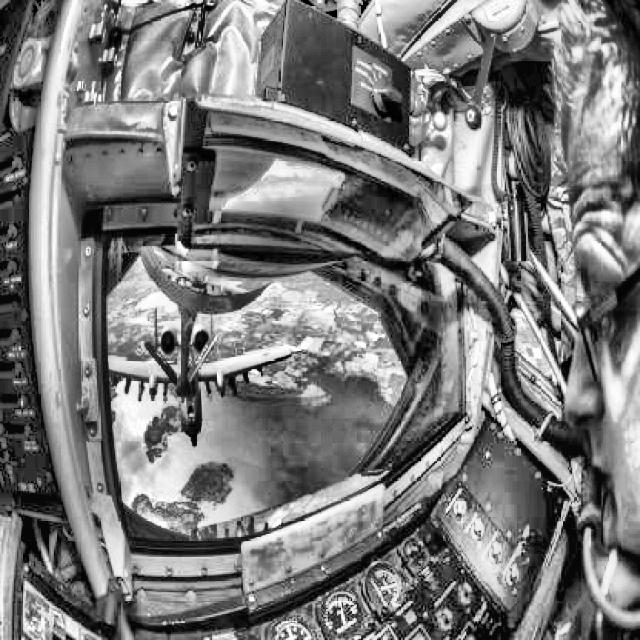A10: (108, 305, 292, 447)
